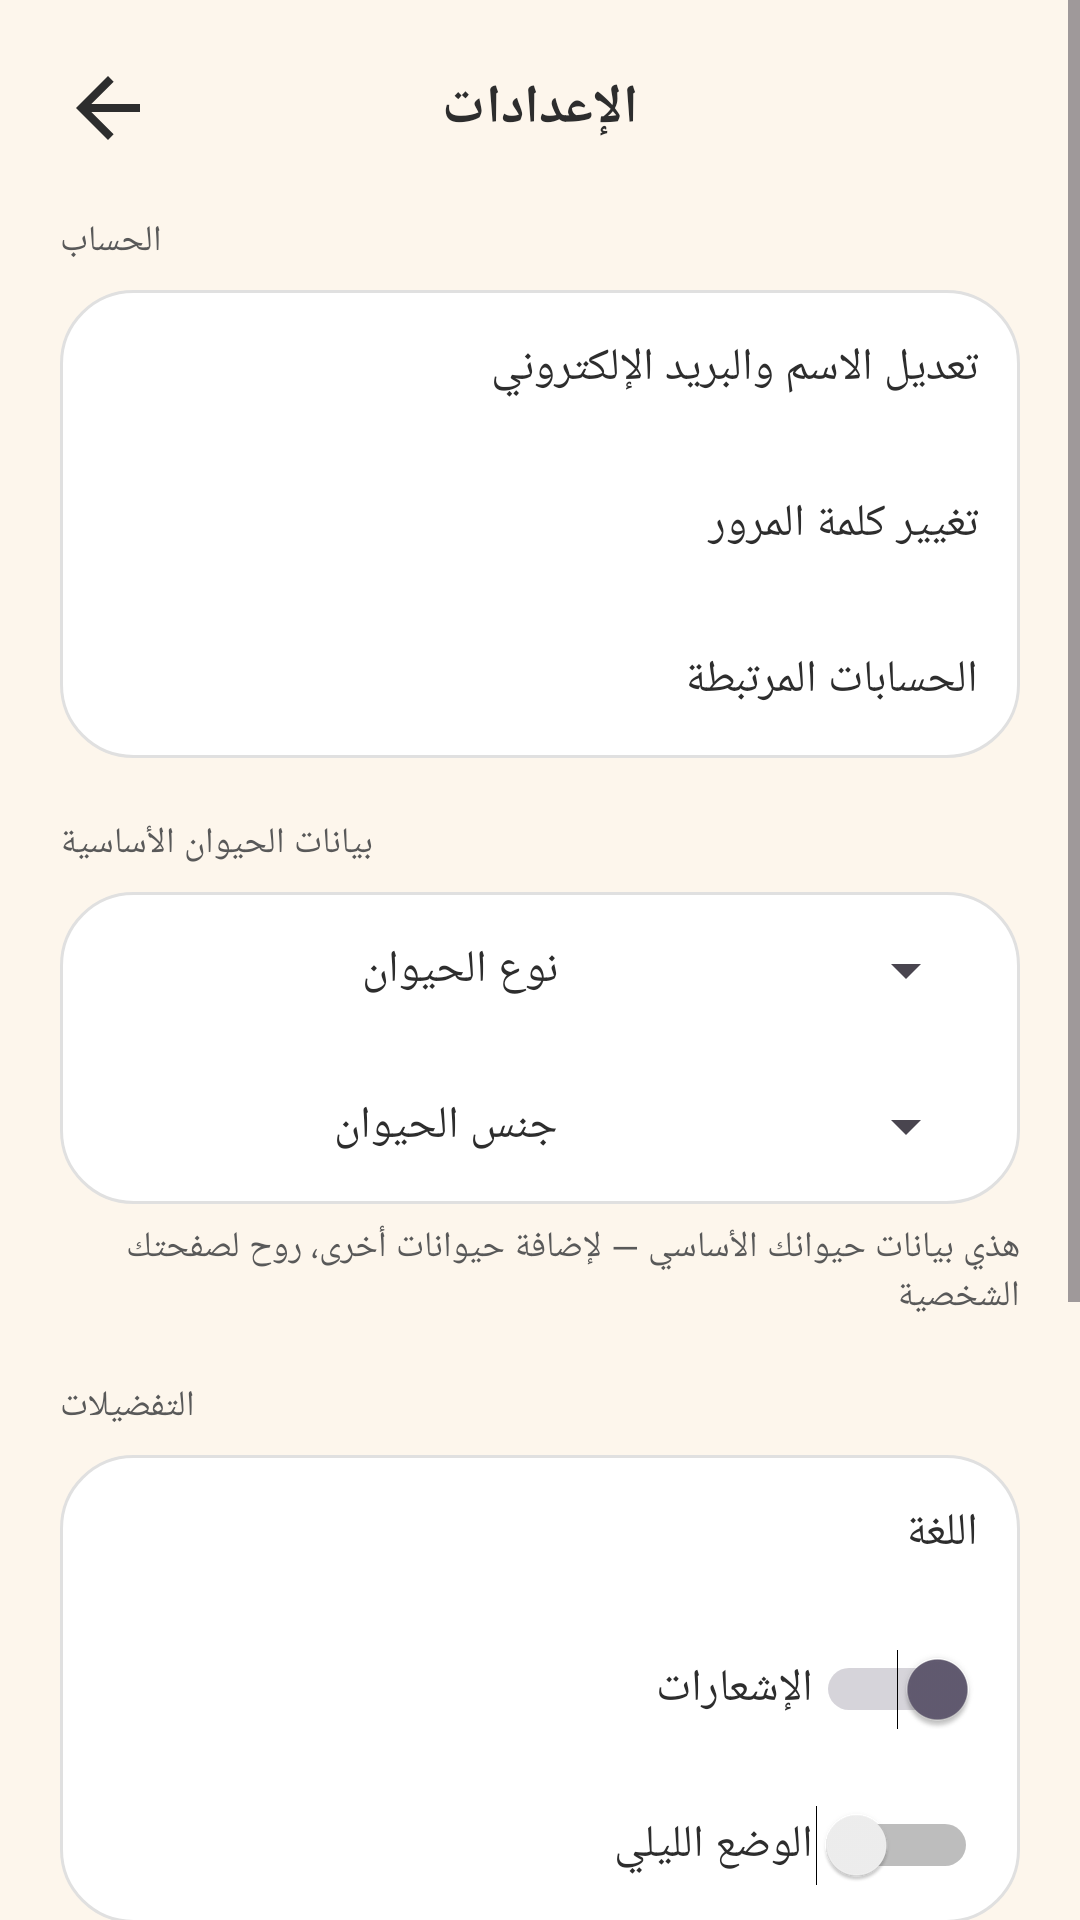

Icons on this 1080w x 1920h Android screen, each with the point to tap as [x,y]:
رجوع: [108,108]
